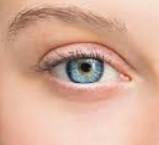eye: (67, 57, 104, 84)
